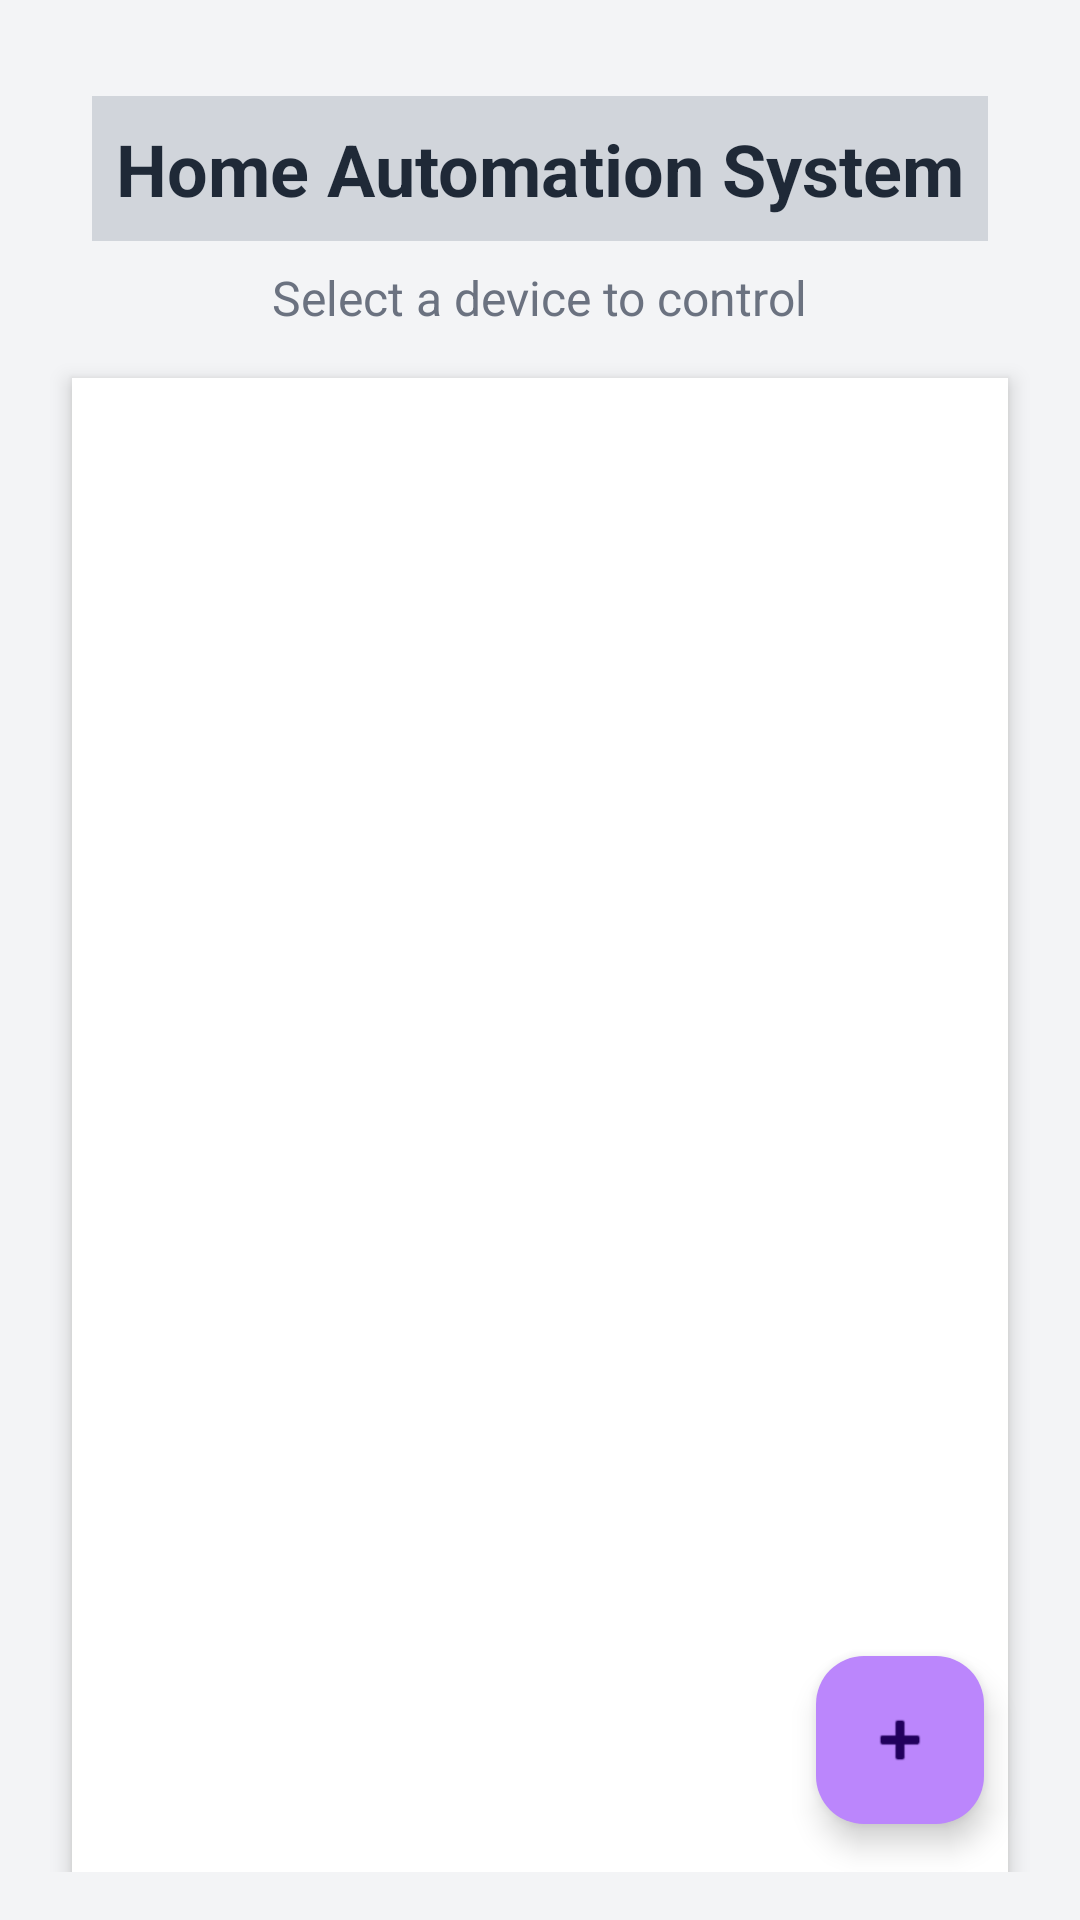

Named icons in this screenshot (1080*1920) and their bounding boxes, (x1, y1, x2, y2):
Add Device: (816, 1656, 984, 1824)
